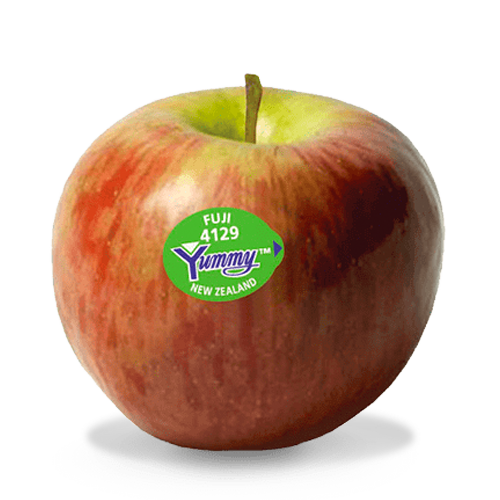apple: (47, 70, 447, 453)
